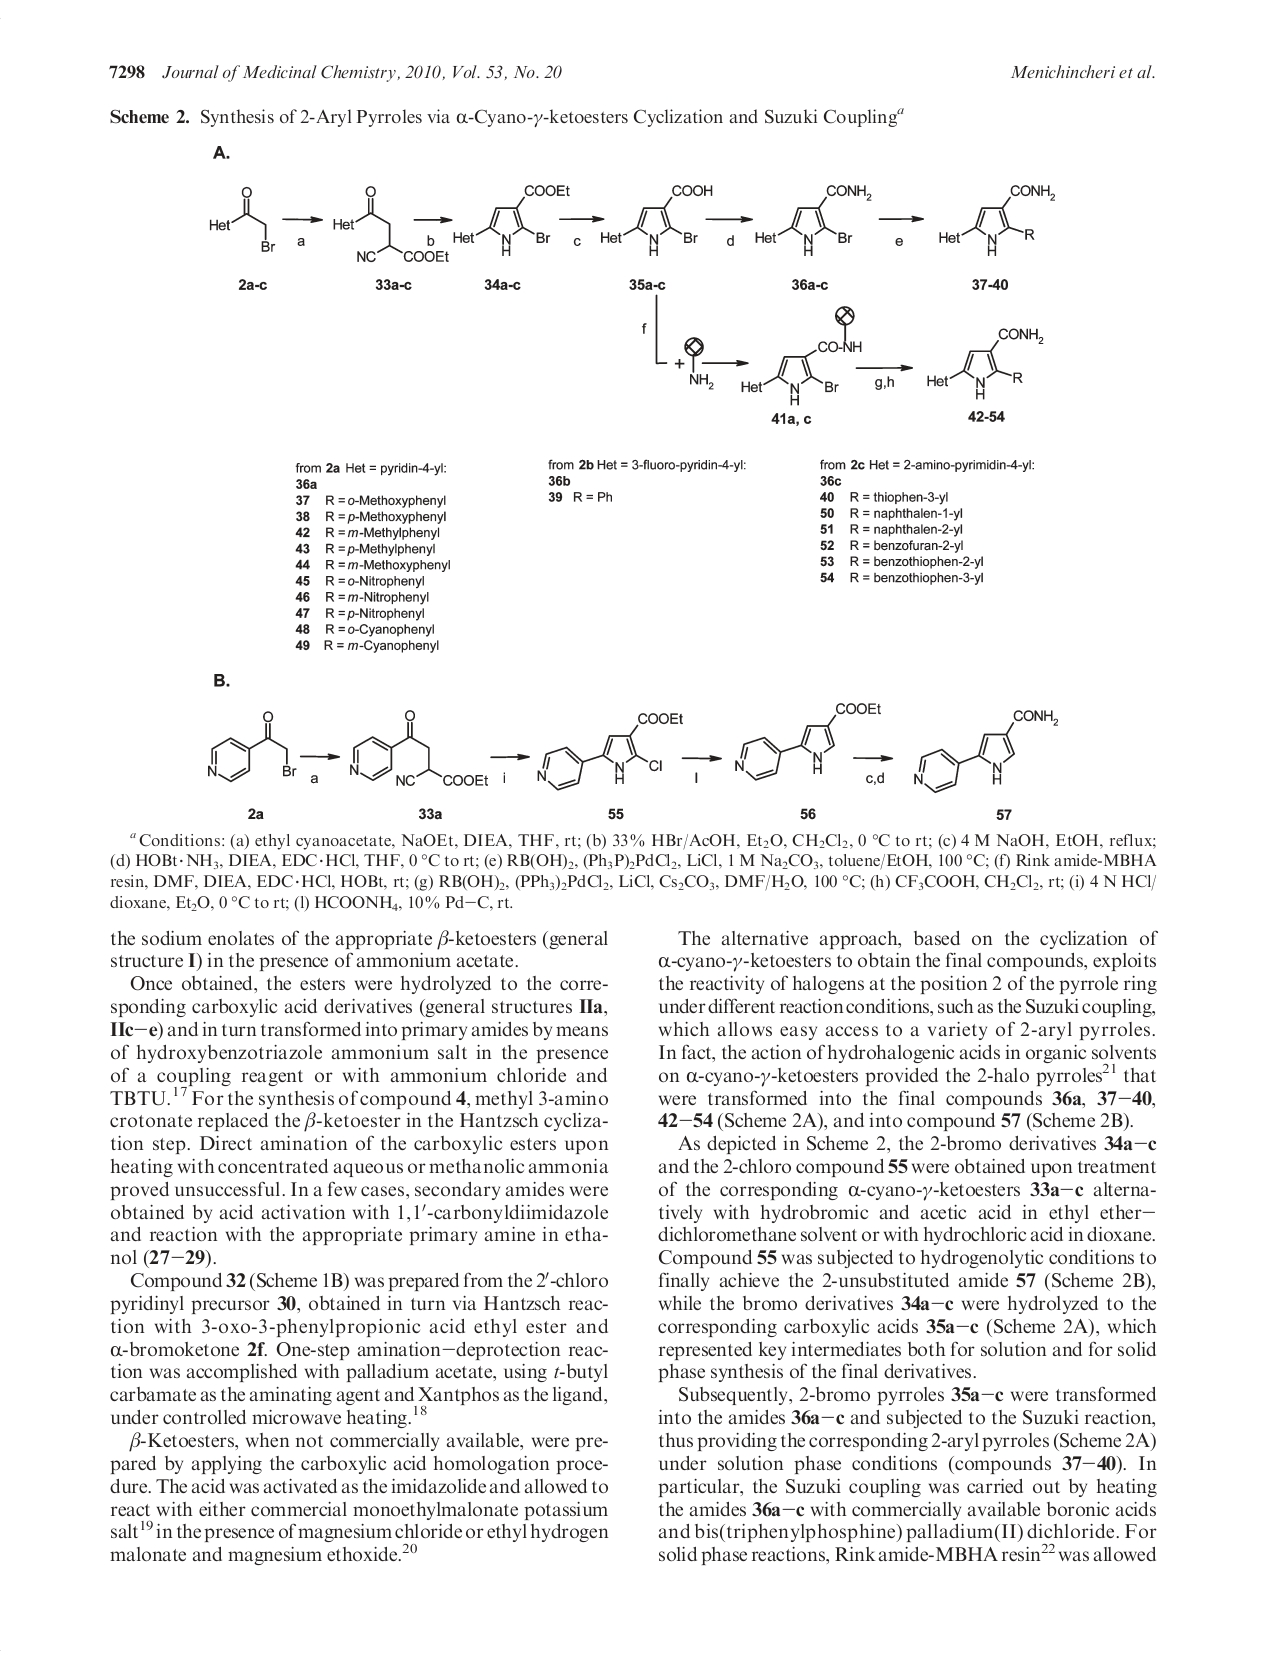exist_molecular: (910, 705, 1060, 795), (735, 303, 864, 408), (733, 698, 886, 785), (535, 709, 688, 793), (347, 706, 492, 789), (330, 184, 452, 266), (751, 180, 875, 259), (926, 322, 1047, 403), (452, 180, 573, 258), (598, 180, 717, 258), (936, 182, 1059, 258), (205, 707, 299, 782), (207, 184, 278, 255)
